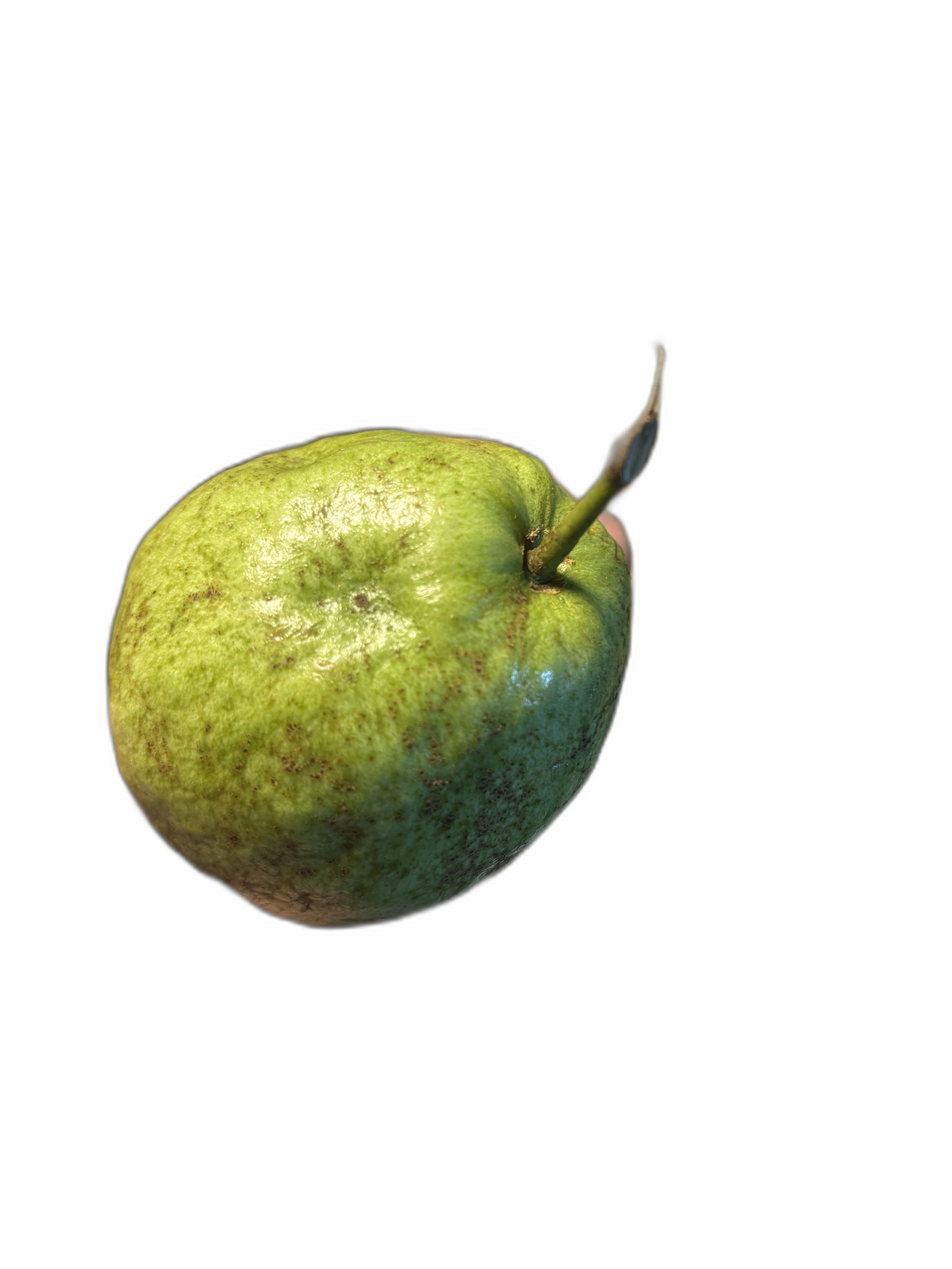guava: (44, 137, 897, 987)
